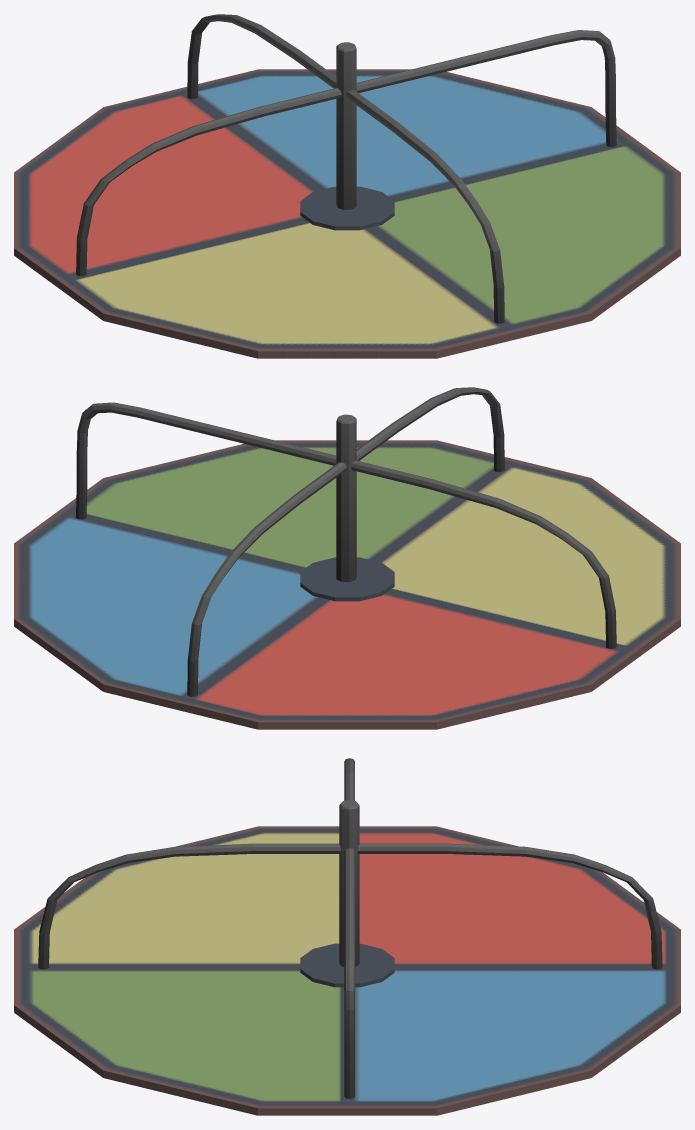
File: Spinning.fbx
The picture shows the model from 3 angles, top to bottom: view 1: azimuth 30°, elevation 25°; view 2: azimuth 150°, elevation 25°; view 3: azimuth 270°, elevation 25°; orthographic projection.
Visible parts, largest first — view 1: SpinPG_LOD0; view 2: SpinPG_LOD0; view 3: SpinPG_LOD0.
Part boxes in pixels (left/top/right/bottom): SpinPG_LOD0: left=14, top=14, right=680, bottom=358; SpinPG_LOD0: left=14, top=387, right=680, bottom=729; SpinPG_LOD0: left=14, top=758, right=680, bottom=1115.
Size of what is drawn, in the model's own units: 571 by 179 by 571.
